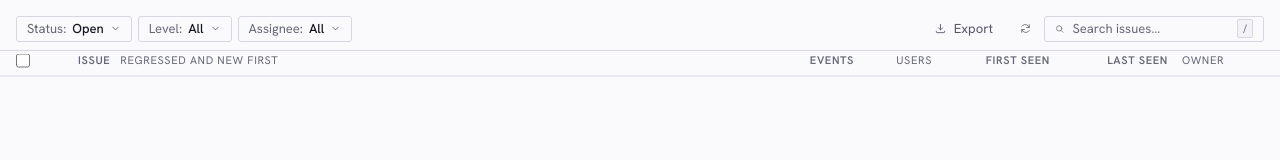
Test: IssueListView › sort columns › cycles a column through both directions and back to priority
Click the button with class "col-sort" showing "Last seen" at (1116, 60), box [1064,52,1168,68]
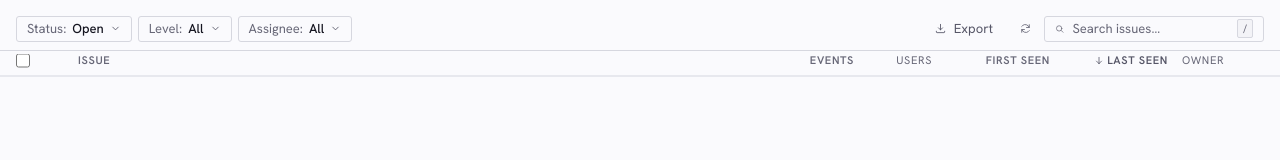
Click the button with class "col-sort" showing "Last seen" at (1116, 60), box [1064,52,1168,68]
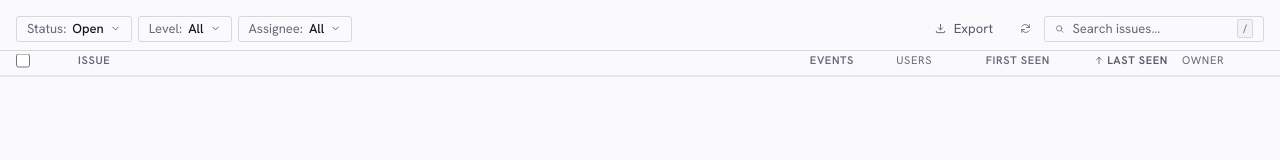
Now the icon with class "col-sort__icon" has attribute data-dir="asc", box [1094,55,1104,65]
Click the button with class "col-sort" showing "Last seen" at (1116, 60), box [1064,52,1168,68]
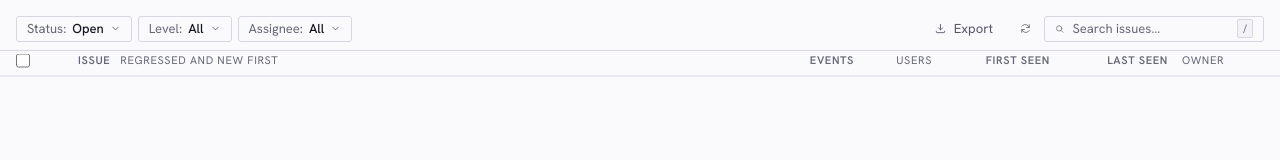
Now the text "Regressed and new first" is shown, box [120,52,278,68]
